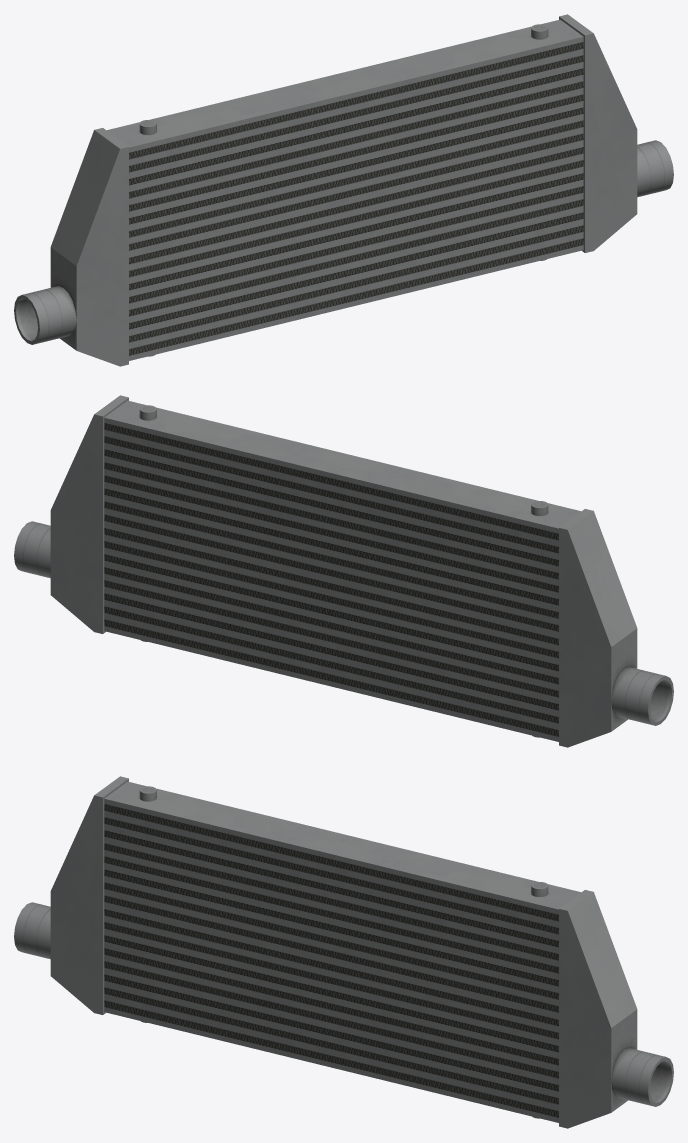
The model's file is intercooler.glb.
3 views of the same model, one above another, from view 1: azimuth 30°, elevation 25°; view 2: azimuth 150°, elevation 25°; view 3: azimuth 330°, elevation 25° (orthographic).
Visible parts, largest first — view 1: intercooler_big_1(0); view 2: intercooler_big_1(0); view 3: intercooler_big_1(0).
Boxes of the visible parts, <box> form: intercooler_big_1(0): <box>14,14,673,366</box>; intercooler_big_1(0): <box>14,395,673,747</box>; intercooler_big_1(0): <box>14,776,673,1128</box>.
Bounding box in the file's own units: 0.0159 × 0.00549 × 0.00113.
Materials: 1 (1 with a texture image).
